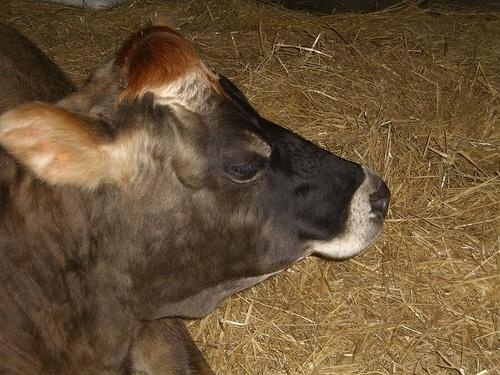cow: (2, 25, 394, 372)
